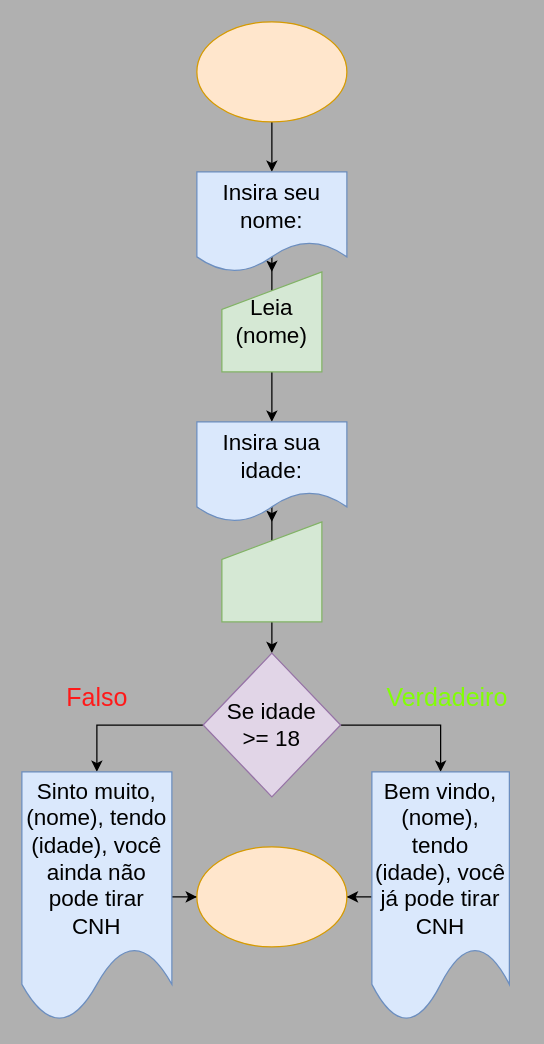
Image size: 544x1044. Some labels were removed from this diagram. The centre of each missing label's shape, as x and y in pixels:
"FIM" goes at point (271, 896).
"INICIO" goes at point (271, 71).
"Leia (idade)" goes at point (271, 571).
